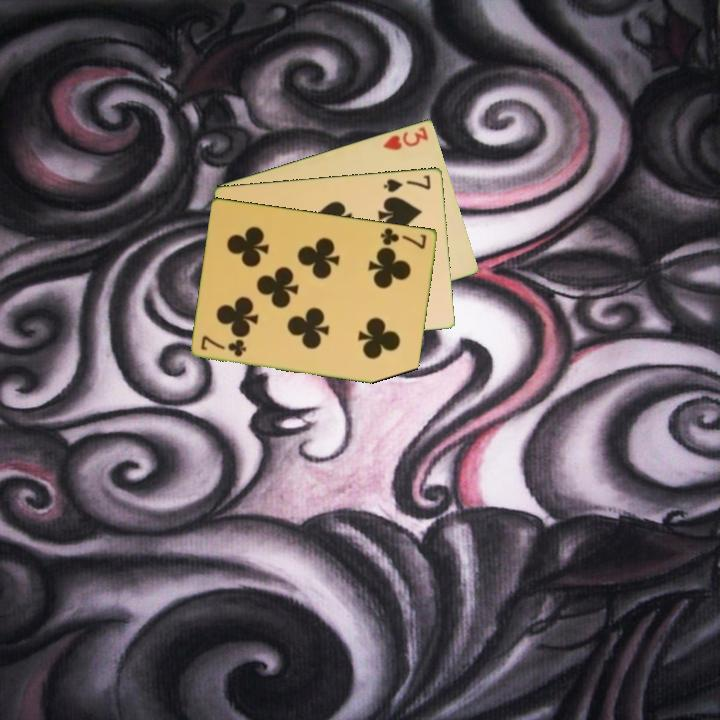3h: (379, 123, 432, 153)
7c: (197, 332, 250, 360), (377, 224, 430, 251)
7s: (380, 171, 434, 195)
